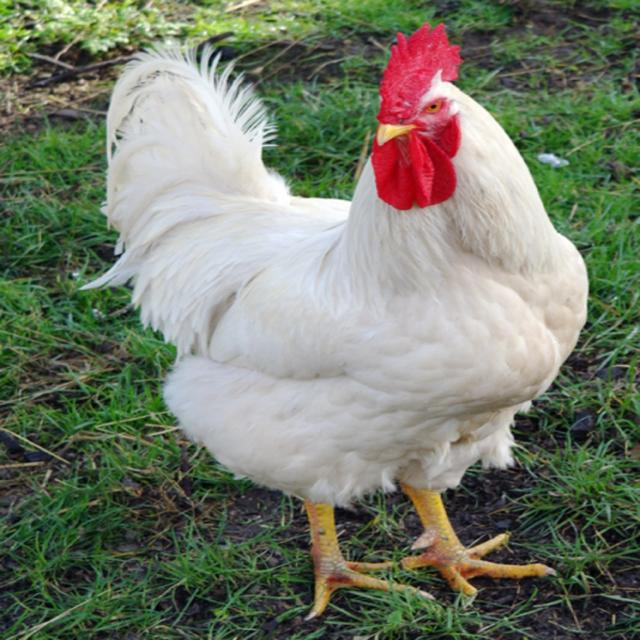Chicken: (64, 29, 582, 625)
